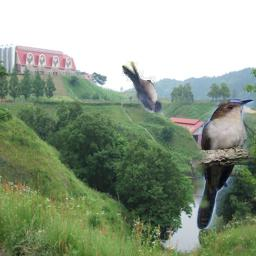Cuckoo: (196, 99, 254, 229)
Swallow: (122, 61, 162, 113)
